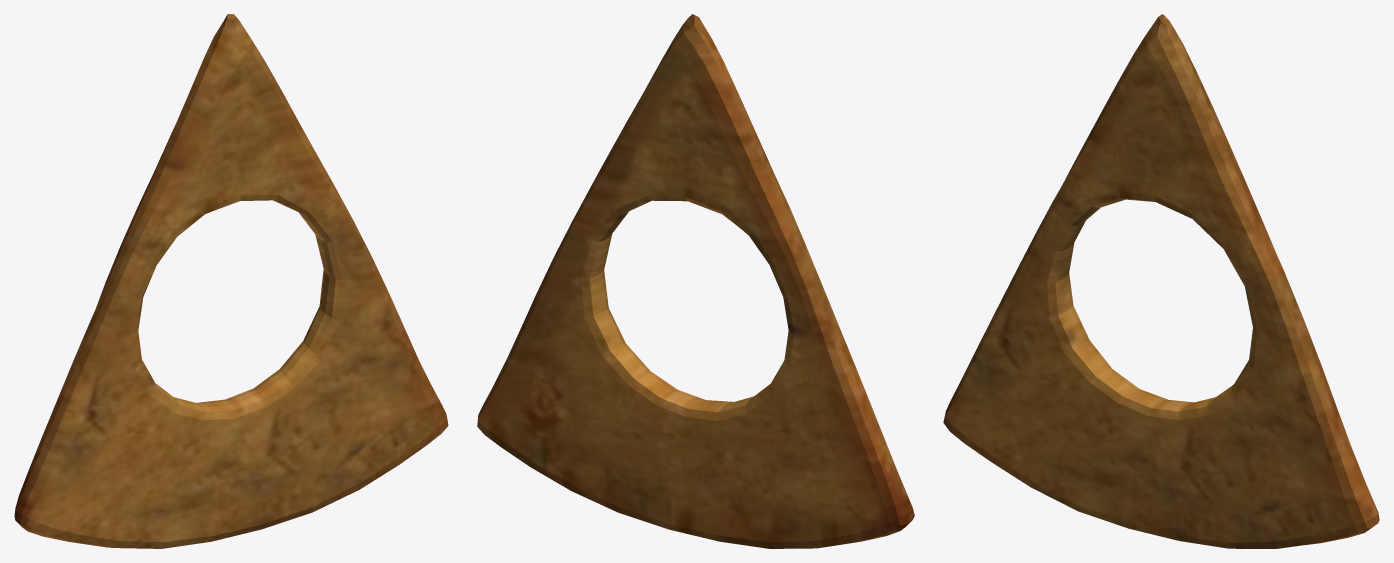
The model's file is Flecha.glb.
3 renders of one model, left to right at view 1: azimuth 30°, elevation 25°; view 2: azimuth 150°, elevation 25°; view 3: azimuth 330°, elevation 25°, orthographic.
Parts seen in each view (by area): view 1: Flecha; view 2: Flecha; view 3: Flecha.
Part boxes in pixels (left/top/right/bottom): Flecha: left=14, top=14, right=448, bottom=548; Flecha: left=477, top=14, right=914, bottom=548; Flecha: left=943, top=14, right=1379, bottom=548.
Bounding box in the file's own units: 1.63 × 1.88 × 0.1111.
Materials: 1 (1 with a texture image).
